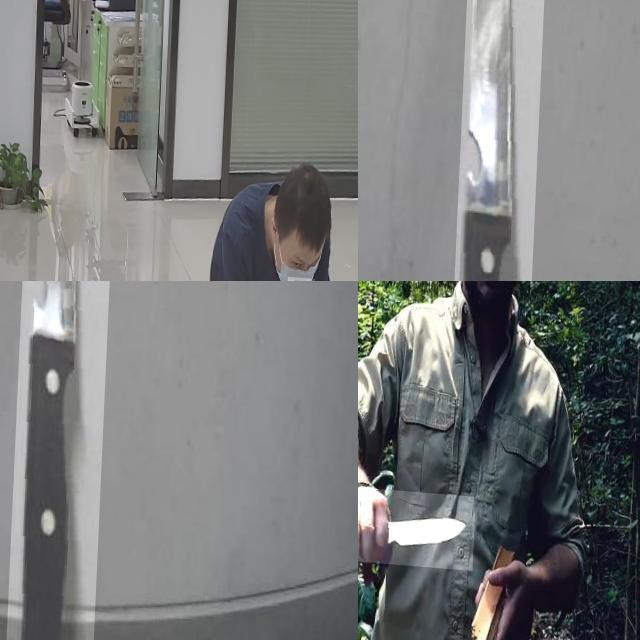-: (10, 281, 120, 640), (457, 0, 553, 281), (358, 483, 479, 565)
